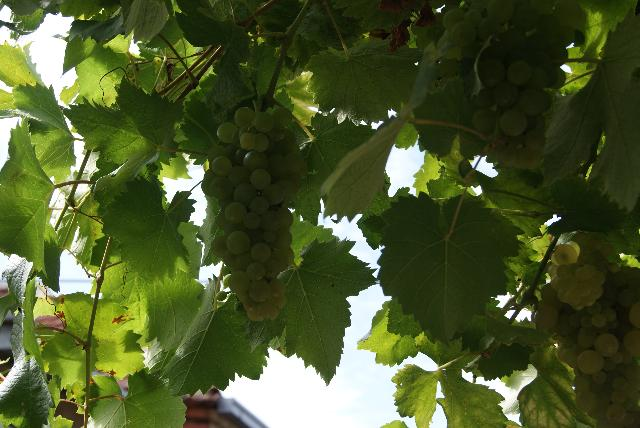grapes: (206, 106, 306, 321), (534, 231, 640, 428)
